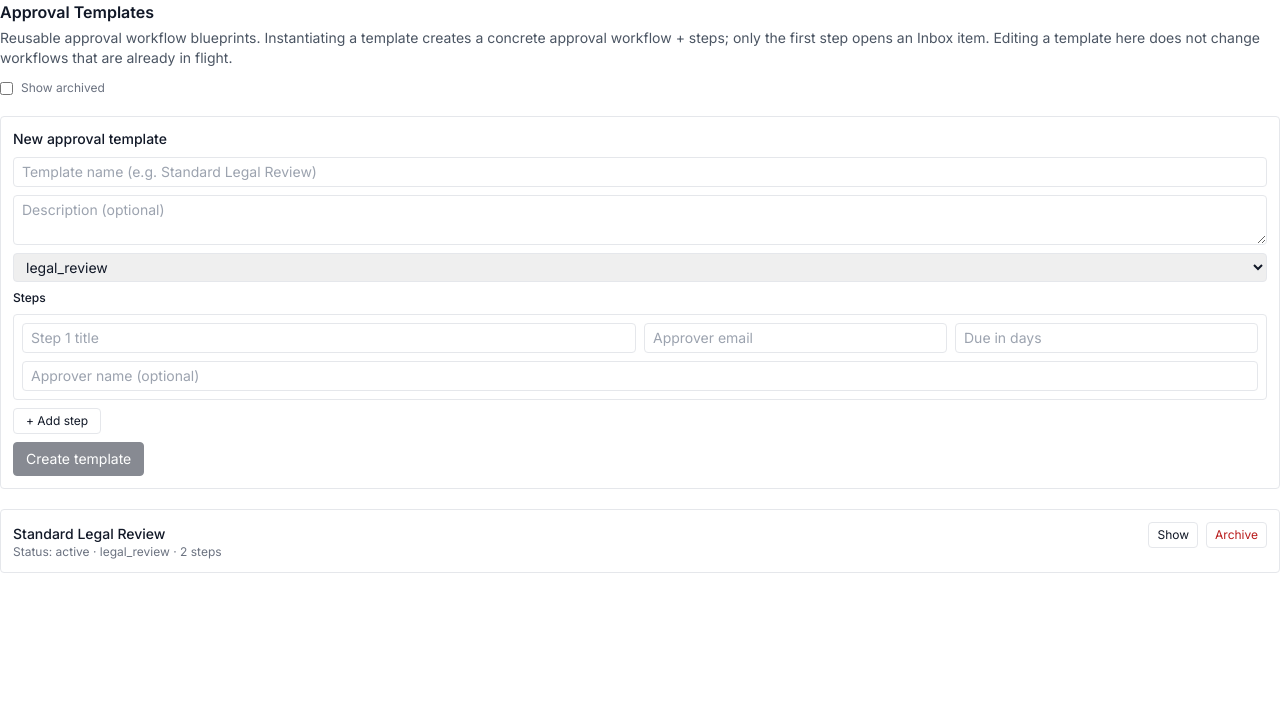
Test: ApprovalWorkflowTemplatesPage › instantiates a template and shows the run id success state
Expected: the text "Standard Legal Review" is shown, x1=13 y1=525 x2=165 y2=542
Click the button with test id "approval-templates-toggle-detail": [1173, 535] box x1=1148 y1=522 x2=1198 y2=548
(page scrolled)
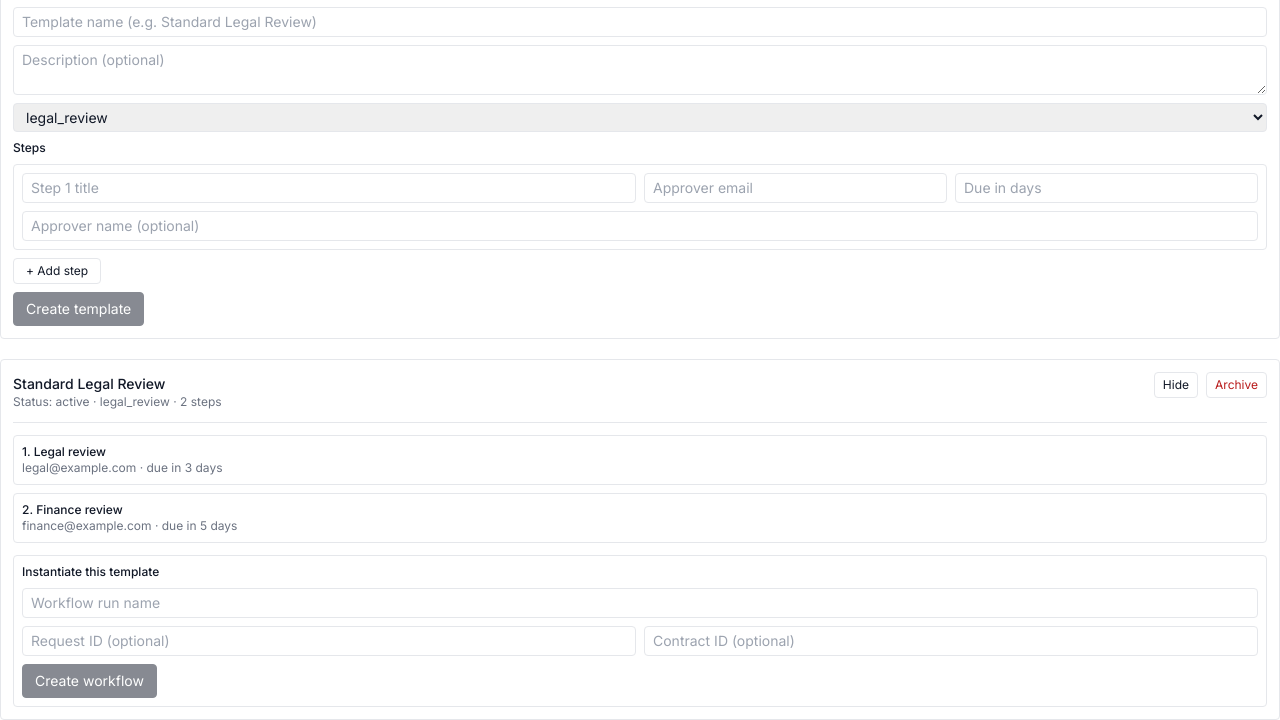
In the field with test id "approval-templates-instantiate-name": [640, 603] box x1=22 y1=588 x2=1258 y2=618, type "Legal approval for Acme NDA"
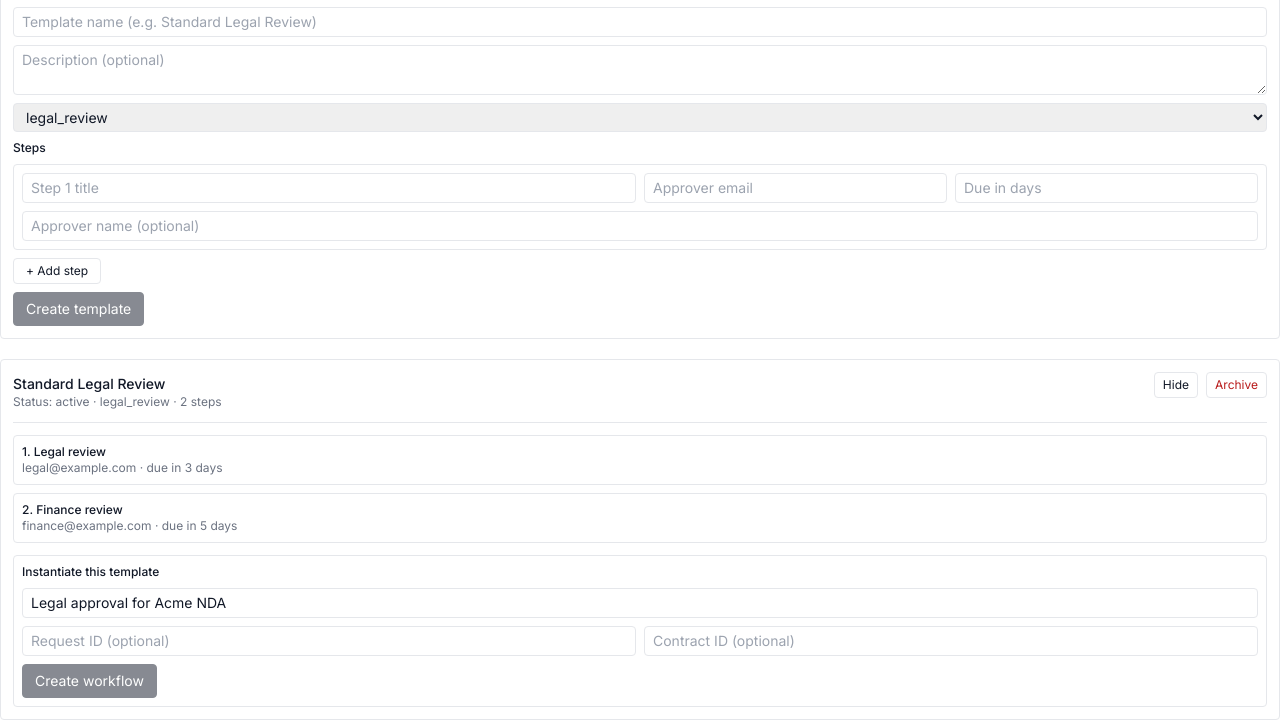
In the field with test id "approval-templates-instantiate-request": [329, 641] box x1=22 y1=626 x2=636 y2=656, type "req-1"
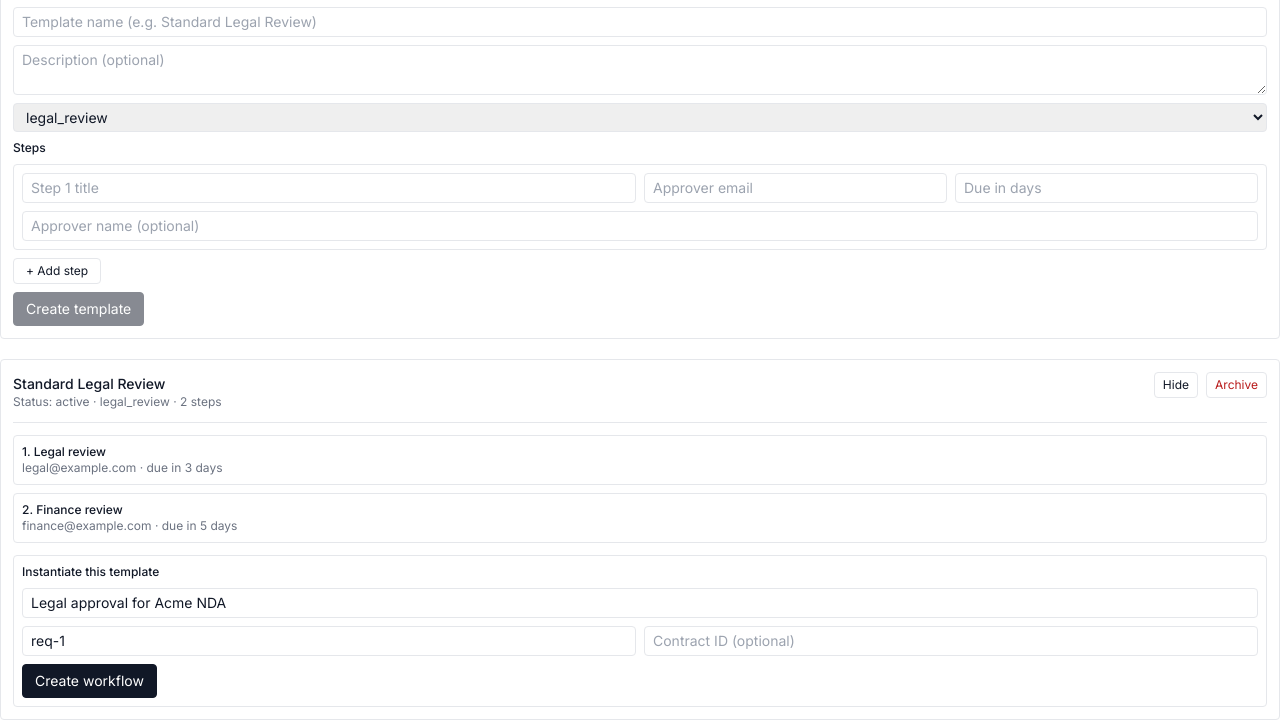
Click the button with test id "approval-templates-instantiate-submit": [89, 681] box x1=22 y1=664 x2=157 y2=698
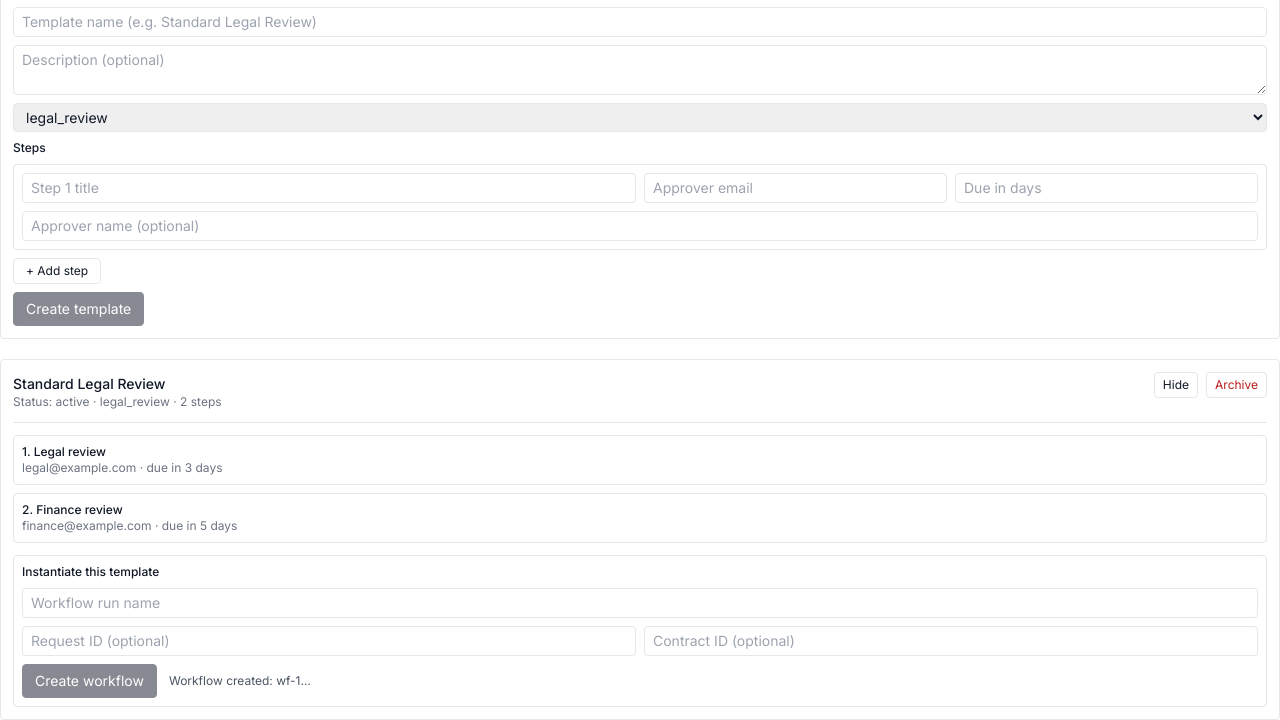
Result: the text with test id "approval-templates-instantiate-success" shows "wf-1" at x1=276 y1=673 x2=300 y2=688
